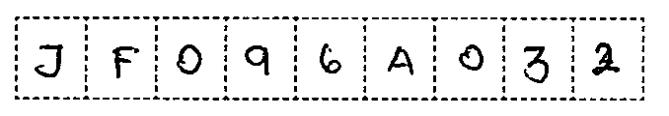0: (167, 37, 212, 82), (450, 40, 490, 77)
2: (586, 36, 627, 82)
3: (516, 40, 555, 88)
6: (312, 40, 348, 78)
9: (238, 39, 275, 83)
A: (383, 42, 417, 77)
F: (107, 39, 144, 83)
J: (29, 40, 71, 84)
